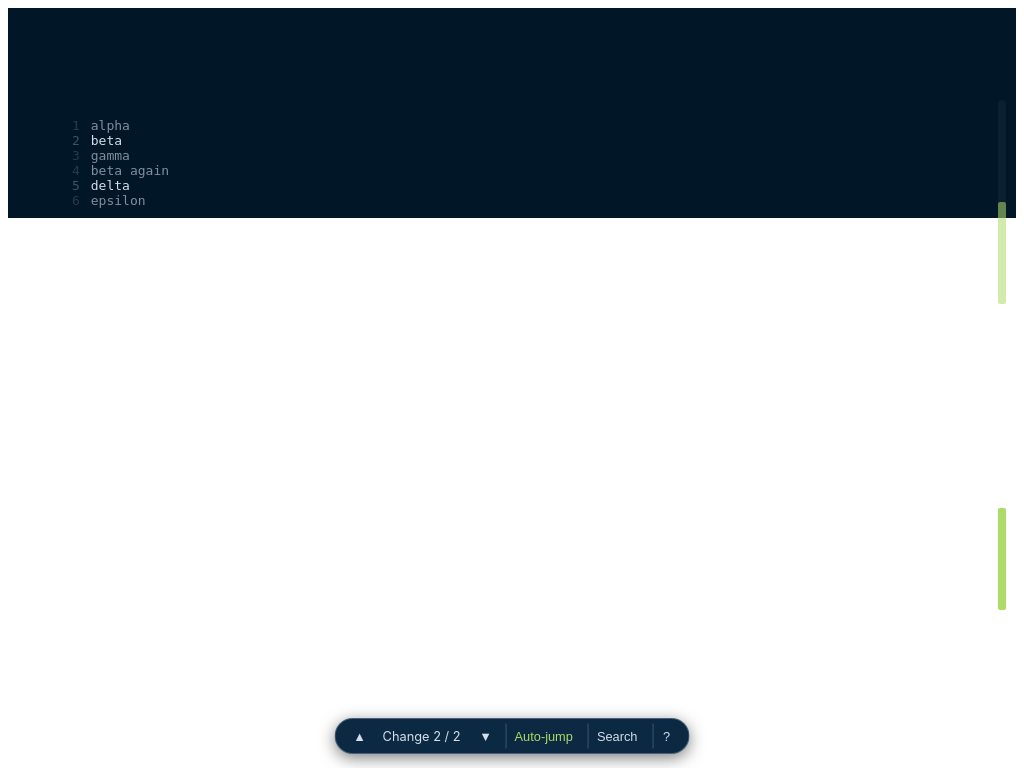
Test: search › Ctrl+F opens search, highlights matches and Enter moves to the next
The width and height of the screenshot is (1024, 768).
Step 1. Press f
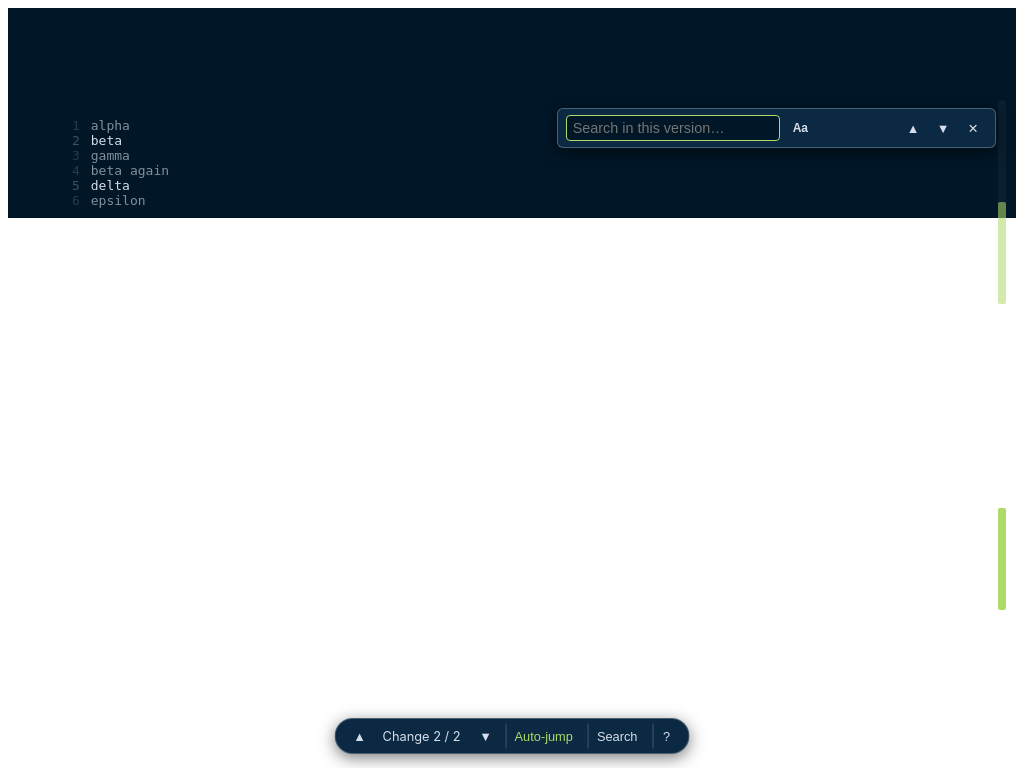
Expected: the field with placeholder "Search in this version…" is shown
Step 2. Type "beta" into the field with placeholder "Search in this version…" → (673, 128), box [566,115,780,141]
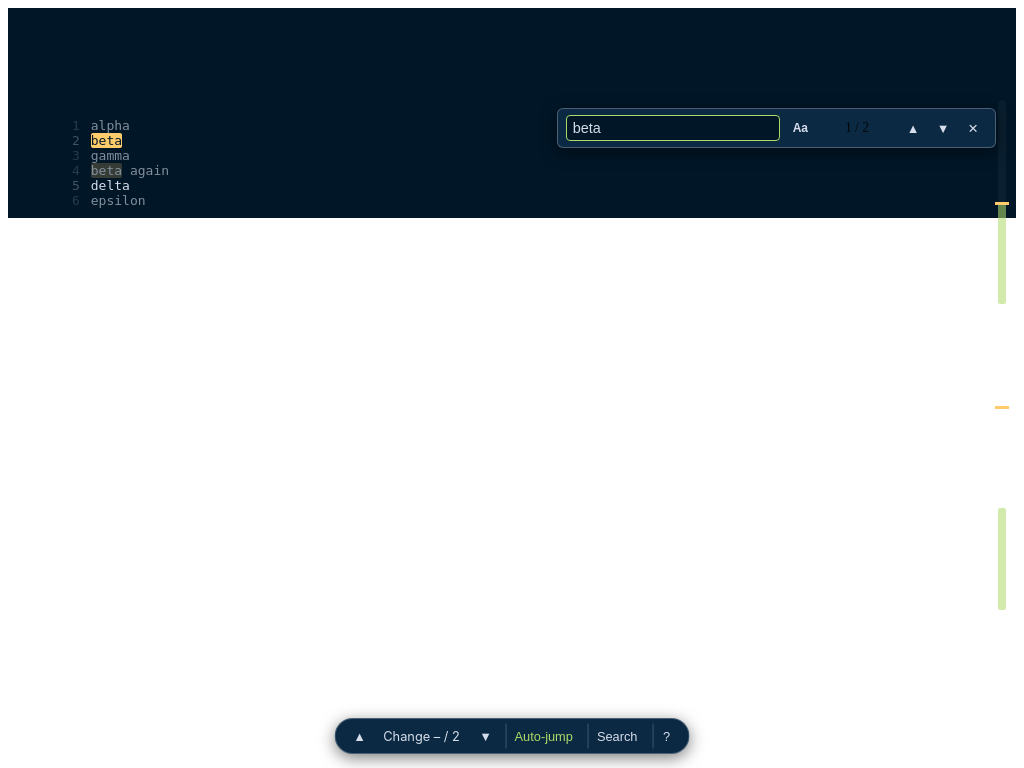
Expected: the text with class "search-status" reads "1 / 2", [845,120,869,135]
Step 3. Press Enter in the field, box [566,115,780,141]
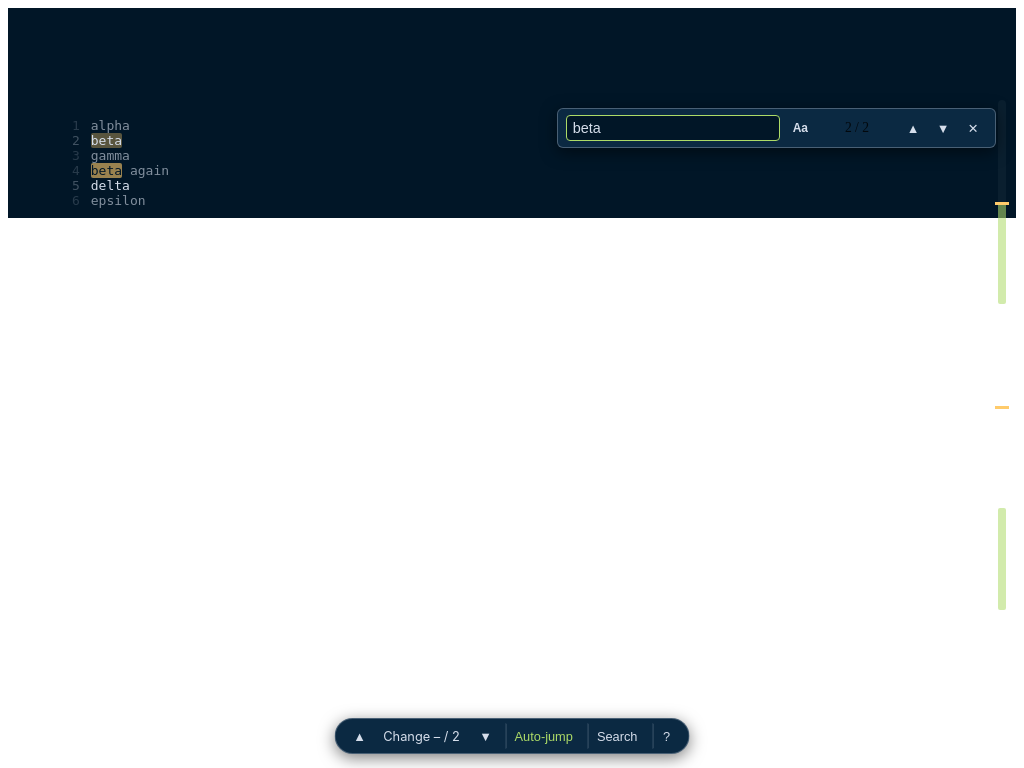
Expected: the text with class "search-status" reads "2 / 2", [845,120,869,135]
Step 4. Press Enter in the field, box [566,115,780,141]
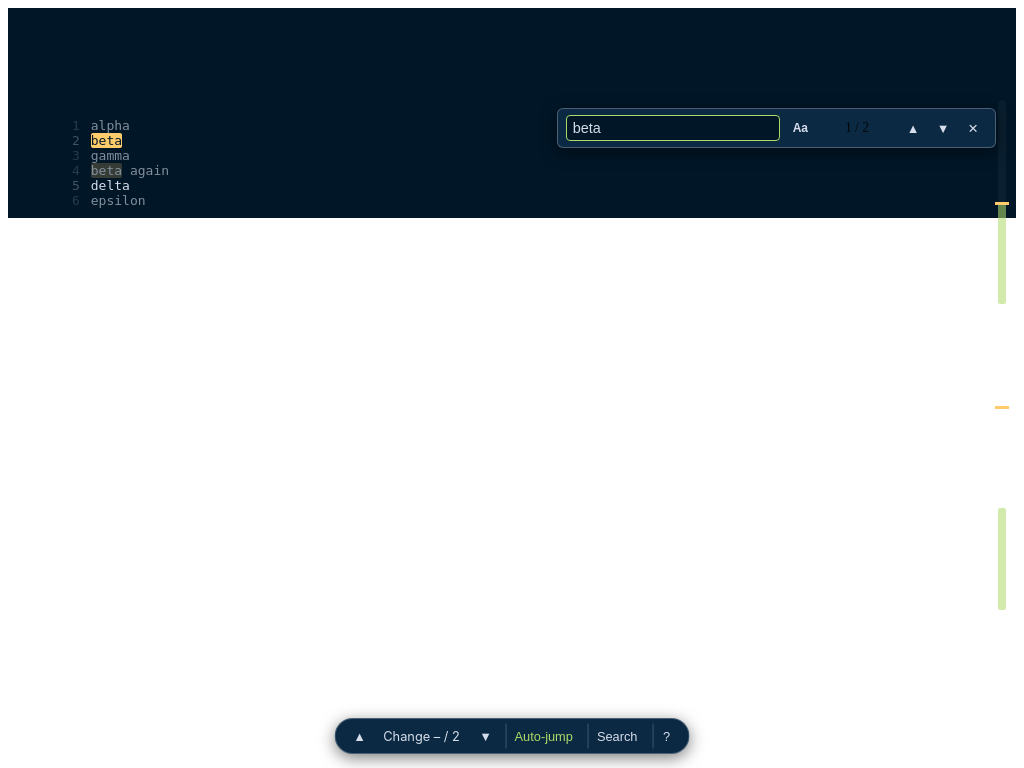
Expected: the text with class "search-status" reads "1 / 2", [845,120,869,135]
Step 5. Replace the text in the field with "zzz" → (673, 128), box [566,115,780,141]
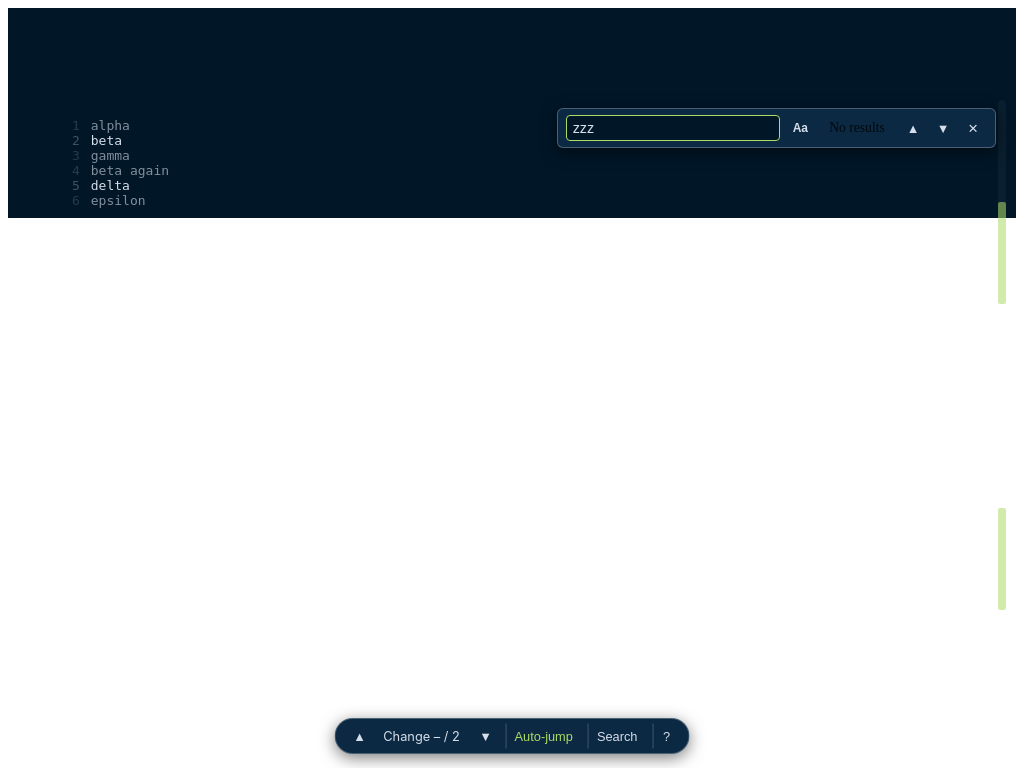
Expected: the text with class "search-status" reads "No results", [829,120,885,135]
